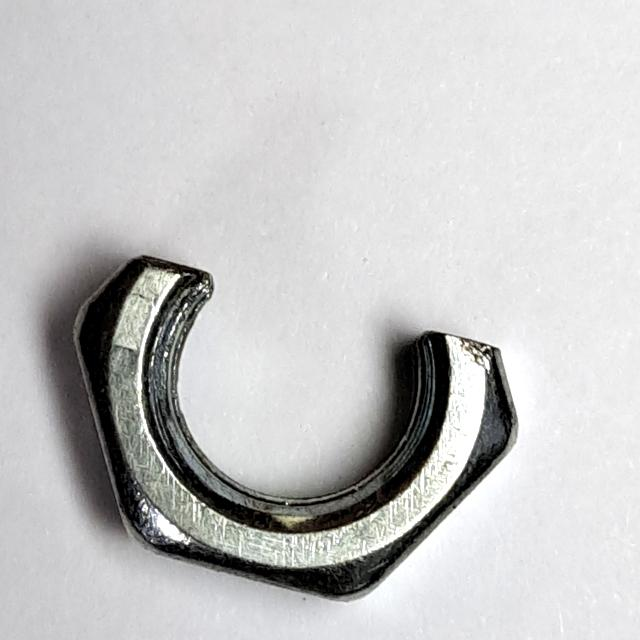Fracture: (62, 243, 535, 612)
